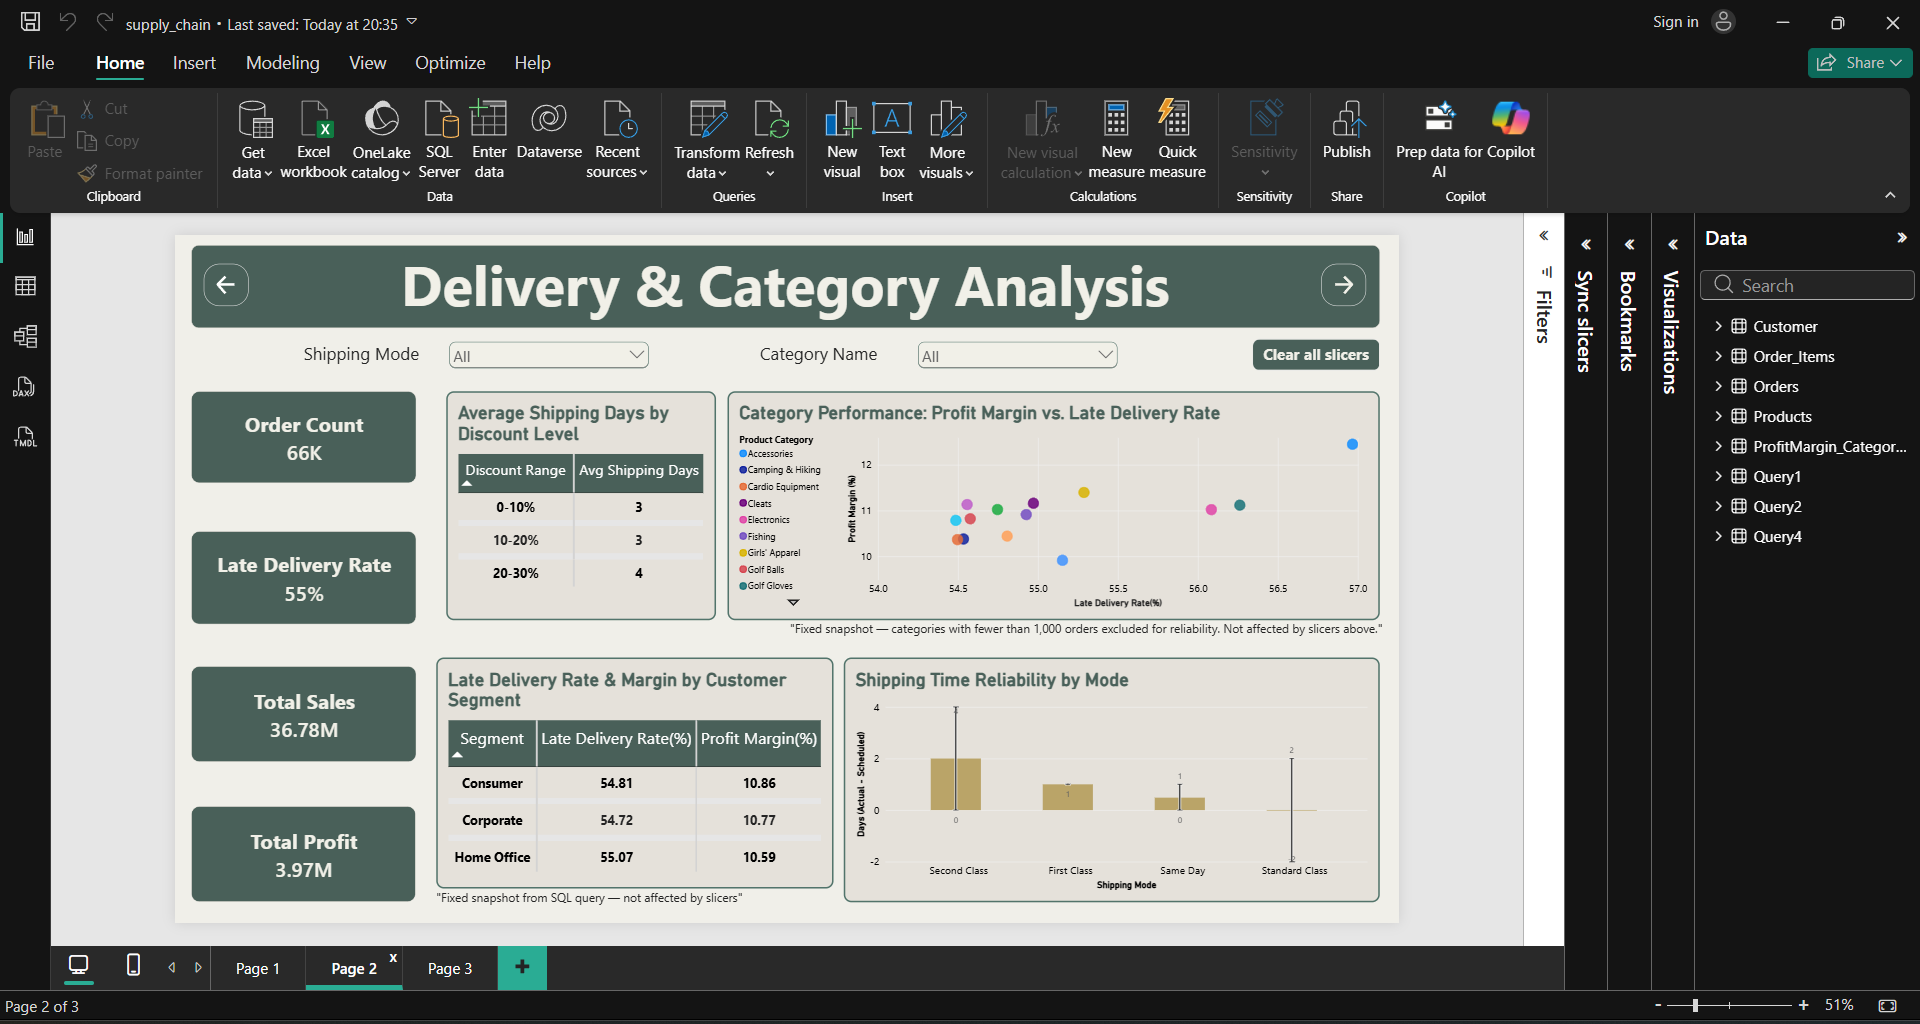

What the dashboard file says about the page in this screenshot:
{"tool":"powerbi","page":{"name":"Page 2","canvas":[1920,1080],"ordinal":1},"visuals":[{"type":"textbox","box":[25.8,14.7,1864.4,130.7],"z":0},{"type":"slicer","fields":{"Values":["Orders.Shipping_Mode"]},"box":[425.5,162.7,322.4,65],"z":1000},{"type":"slicer","fields":{"Values":["Products.Category_Name"]},"box":[1160.8,162.7,322.4,65],"z":2000},{"type":"textbox","box":[202,166.7,190.2,56.9],"z":3000},{"type":"textbox","box":[917.6,166.7,192.2,56.9],"z":4000},{"type":"clusteredColumnChart","title":"Shipping Time Reliability by Mode","fields":{"Category":["Orders.Shipping_Mode"],"Y":["Orders.Gap AVG"]},"box":[1049,662.7,841.2,384.3],"z":5000},{"type":"tableEx","title":"Late Delivery Rate & Margin by Customer Segment","fields":{"Values":["Query2.Customer_Segmnet","Query2.Late_Delivery_Rate","Query2.Margin_Percentage"]},"box":[409.8,662.7,623.5,362.7],"z":6000},{"type":"scatterChart","title":"Category Performance: Profit Margin vs. Late Delivery Rate","fields":{"Series":["ProfitMargin_Category(q5_10).Category_Name"],"X":["ProfitMargin_Category(q5_10).Late_Delivery_Rate"],"Y":["ProfitMargin_Category(q5_10).Margin_Percentage"]},"box":[866.7,245.1,1023.5,358.8],"z":7000},{"type":"tableEx","title":"Average Shipping Days by Discount Level","fields":{"Values":["Order_Items.Discount Bucket","Order_Items.Avg Shipping Days"]},"box":[425.5,245.1,423.5,358.8],"z":8000},{"type":"textbox","box":[964.7,603.9,954.9,43.1],"z":9000},{"type":"textbox","box":[409.8,1025.5,507.8,54.9],"z":10000},{"type":"cardVisual","fields":{"Data":["Products.Total Sales"]},"box":[25.5,676.5,353.7,150],"z":11000},{"type":"cardVisual","fields":{"Data":["Orders.Total Profit"]},"box":[25.5,896.1,352.4,150],"z":12000},{"type":"cardVisual","fields":{"Data":["Orders.Order Count"]},"box":[25.9,244.4,353.7,144.4],"z":13000},{"type":"cardVisual","fields":{"Data":["Orders.Late Delivery Rate"]},"box":[25.5,464.7,353.7,146.3],"z":14000},{"type":"actionButton","box":[1798,45.1,70.6,66.7],"z":15001},{"type":"actionButton","box":[45.1,45.1,70,66.7],"z":15002},{"type":"actionButton","box":[1690.2,162.7,200,50],"z":15003}]}

Visuals, with their boxes on the page's 1920x1080 design canvas (x1, y1, x2, y2). These are canvas units, not pixel positions in the 1920x1024 screenshot, which may show the page scaled, cropped or inside an application window:
textbox: 26, 15, 1890, 145
slicer - Orders.Shipping_Mode: 426, 163, 748, 228
slicer - Products.Category_Name: 1161, 163, 1483, 228
textbox: 202, 167, 392, 224
textbox: 918, 167, 1110, 224
"Shipping Time Reliability by Mode" clusteredColumnChart: 1049, 663, 1890, 1047
"Late Delivery Rate & Margin by Customer Segment" tableEx: 410, 663, 1033, 1025
"Category Performance: Profit Margin vs. Late Delivery Rate" scatterChart: 867, 245, 1890, 604
"Average Shipping Days by Discount Level" tableEx: 426, 245, 849, 604
textbox: 965, 604, 1920, 647
textbox: 410, 1026, 918, 1080
cardVisual - Products.Total Sales: 26, 676, 379, 826
cardVisual - Orders.Total Profit: 26, 896, 378, 1046
cardVisual - Orders.Order Count: 26, 244, 380, 389
cardVisual - Orders.Late Delivery Rate: 26, 465, 379, 611
actionButton: 1798, 45, 1869, 112
actionButton: 45, 45, 115, 112
actionButton: 1690, 163, 1890, 213
